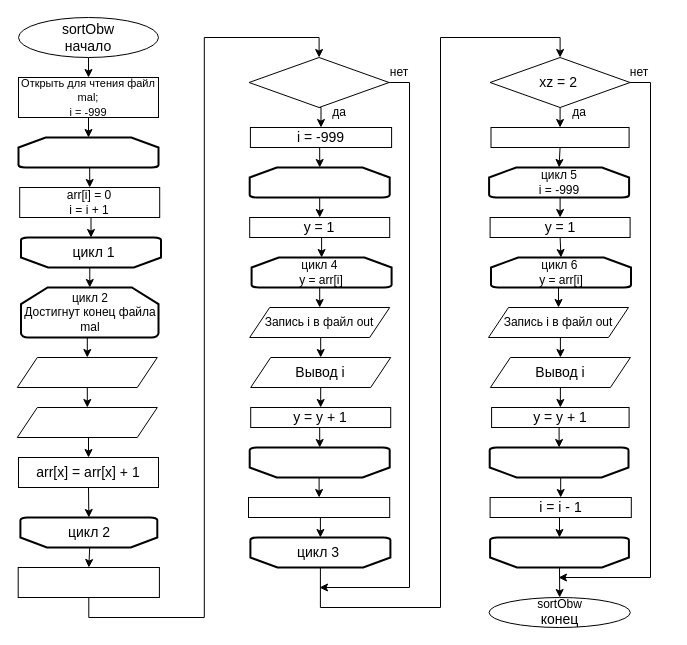
Image size: 687x645. Some labels were removed from this diagram. The centre of each missing label's shape, as x and y in pixels:
"i = 999" goes at [559,137].
"i = i + 1" goes at [319,507].
"xz = 1" goes at [318,82].
"Ввод x из файла mal" goes at [86,372].
"Вывод x" goes at [86,422].
"Открыть на запись файл out" goes at [88,582].
"цикл 1 i = 999" goes at [88,152].
"цикл 3 i = 999" goes at [319,182].
"цикл 4" goes at [319,462].
"цикл 5" goes at [559,552].
"цикл 6" goes at [558,462].
